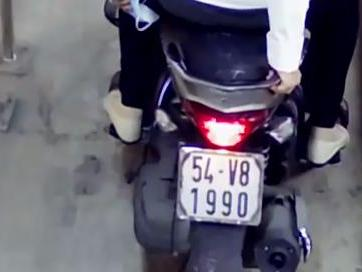num_plate: (178, 144, 261, 225)
